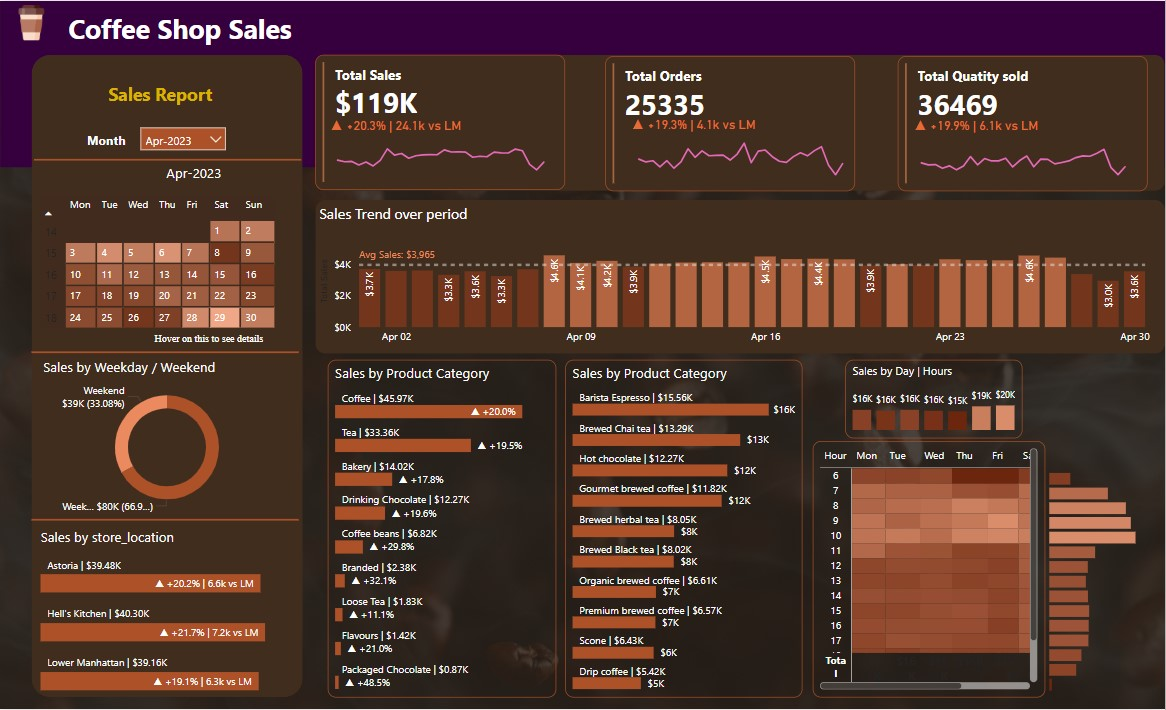

Layout of this report page (visuals, bound fields, positions):
{"tool":"powerbi","page":{"name":"Dashboard","canvas":[1400,850],"ordinal":0},"visuals":[{"type":"shape","box":[1.5,0,1398.8,199.6],"z":0},{"type":"shape","box":[379.7,64.5,1020,163.6],"z":1000},{"type":"shape","box":[39,64.5,325.7,771.4],"z":2000},{"type":"textbox","box":[78,6,289.7,58.5],"z":3000},{"type":"cardVisual","title":"Total Sales","fields":{"Data":["Transactions.Total Sales"]},"box":[379.7,64.5,300.2,162.1],"z":4000},{"type":"slicer","fields":{"Values":["Date Table.Month Year"]},"box":[165.1,147.1,112.6,37.5],"z":5000},{"type":"lineChart","fields":{"Y":["Transactions.Total Sales"],"Category":["Date Table.Date.Variation.Date Hierarchy.Year","Date Table.Date.Variation.Date Hierarchy.Month","Date Table.Date.Variation.Date Hierarchy.Day"]},"box":[391.7,139.6,277.7,84],"z":6000},{"type":"pivotTable","fields":{"Rows":["Date Table.Week Number"],"Columns":["Date Table.Day Name"],"Values":["Min(Date Table.Day Number)"]},"box":[45,228.1,309.2,174.1],"z":7000},{"type":"card","fields":{"Values":["Min(Date Table.Month Year)"]},"box":[165.1,190.6,138.1,36],"z":8000},{"type":"card","fields":{"Values":["Transactions.Foot Note"]},"box":[144.1,390.2,216.1,22.5],"z":9000},{"type":"shape","box":[42,181.6,321.2,18],"z":10000},{"type":"donutChart","title":"Sales by Weekday / Weekend","fields":{"Category":["Date Table.Weekday / Weekend"],"Y":["Transactions.Total Sales"]},"box":[48,427.7,307.7,195.1],"z":11000},{"type":"shape","box":[39,412.7,321.2,18],"z":12000},{"type":"shape","box":[39,613.9,321.2,18],"z":13000},{"type":"clusteredBarChart","title":"Sales by store_location","fields":{"Category":["Transactions.store_location"],"Y":["Transactions.Placeholder","Transactions.Total Sales"]},"box":[45,631.9,310.7,204.1],"z":14000},{"type":"shape","box":[379.7,238.6,1020.6,185],"z":15000},{"type":"columnChart","title":"Sales Trend over period","fields":{"Y":["Transactions.Total Sales"],"Category":["Transactions.transaction_date"]},"box":[379.7,244.6,1008.6,177.1],"z":16000},{"type":"clusteredBarChart","title":"Sales by Product Category","fields":{"Y":["Transactions.Placeholder","Transactions.Total Sales"],"Category":["Transactions.product_category"]},"box":[394.7,430.7,274.7,405.2],"z":17000},{"type":"clusteredBarChart","title":"Sales by Product Category","fields":{"Y":["Transactions.Placeholder","Transactions.Total Sales"],"Category":["Transactions.product_type"]},"box":[679.9,430.7,285.2,405.2],"z":18000},{"type":"pivotTable","fields":{"Values":["Transactions.Total Sales"],"Rows":["Transactions.Hour"],"Columns":["Date Table.Day Name"]},"box":[977.1,528.3,279.2,307.7],"z":19000},{"type":"barChart","fields":{"Y":["Transactions.Total Sales"],"Category":["Transactions.Hour"]},"box":[1256.2,553.8,144.1,279.2],"z":20000},{"type":"columnChart","title":"Sales by Day | Hours","fields":{"Category":["Date Table.Day Name"],"Y":["Transactions.Total Sales"]},"box":[1016.1,430.7,213.1,94.6],"z":21000},{"type":"textbox","box":[100.6,151.6,64.5,30],"z":22000},{"type":"textbox","box":[126.1,91.6,151.6,39],"z":23000},{"type":"cardVisual","title":"Total Sales","fields":{"Data":["Transactions.Total Quatity sold"]},"box":[1079.1,66,300.2,162.1],"z":23002},{"type":"lineChart","fields":{"Category":["Date Table.Date.Variation.Date Hierarchy.Year","Date Table.Date.Variation.Date Hierarchy.Month","Date Table.Date.Variation.Date Hierarchy.Day"],"Y":["Transactions.Total Quatity sold"]},"box":[1092.6,139.6,274.7,84],"z":23004},{"type":"cardVisual","title":"Total Sales","fields":{"Data":["Transactions.Total Orders"]},"box":[727.9,66,300.2,162.1],"z":23005},{"type":"lineChart","fields":{"Category":["Date Table.Date.Variation.Date Hierarchy.Year","Date Table.Date.Variation.Date Hierarchy.Month","Date Table.Date.Variation.Date Hierarchy.Day"],"Y":["Transactions.Total Orders"]},"box":[753.4,138.1,274.7,85.5],"z":23006},{"type":"image","box":[0,0,78,52.5],"z":23007}]}

Visuals, with their boxes in screenshot pixels (x1, y1, x2, y2), scaled from the page's 1400x850 canvas onto the 1166x710 screenshot:
shape: 1:0:1165:167
shape: 316:54:1165:191
shape: 32:54:304:698
textbox: 65:5:306:54
"Total Sales" cardVisual: 316:54:566:189
slicer - Date Table.Month Year: 138:123:231:154
lineChart - Transactions.Total Sales x Date Table.Date.Variation.Date Hierarchy.Year: 326:117:558:187
pivotTable - Date Table.Week Number x Date Table.Day Name: 37:191:295:336
card - Min(Date Table.Month Year): 138:159:253:189
card - Transactions.Foot Note: 120:326:300:345
shape: 35:152:302:167
"Sales by Weekday / Weekend" donutChart: 40:357:296:520
shape: 32:345:300:360
shape: 32:513:300:528
"Sales by store_location" clusteredBarChart: 37:528:296:698
shape: 316:199:1165:354
"Sales Trend over period" columnChart: 316:204:1156:352
"Sales by Product Category" clusteredBarChart: 329:360:558:698
"Sales by Product Category" clusteredBarChart: 566:360:804:698
pivotTable - Transactions.Total Sales x Transactions.Hour: 814:441:1046:698
barChart - Transactions.Total Sales x Transactions.Hour: 1046:463:1165:696
"Sales by Day | Hours" columnChart: 846:360:1024:439
textbox: 84:127:138:152
textbox: 105:77:231:109
"Total Sales" cardVisual: 899:55:1149:191
lineChart - Date Table.Date.Variation.Date Hierarchy.Year x Date Table.Date.Variation.Date Hierarchy.Month: 910:117:1139:187
"Total Sales" cardVisual: 606:55:856:191
lineChart - Date Table.Date.Variation.Date Hierarchy.Year x Date Table.Date.Variation.Date Hierarchy.Month: 627:115:856:187
image: 0:0:65:44
